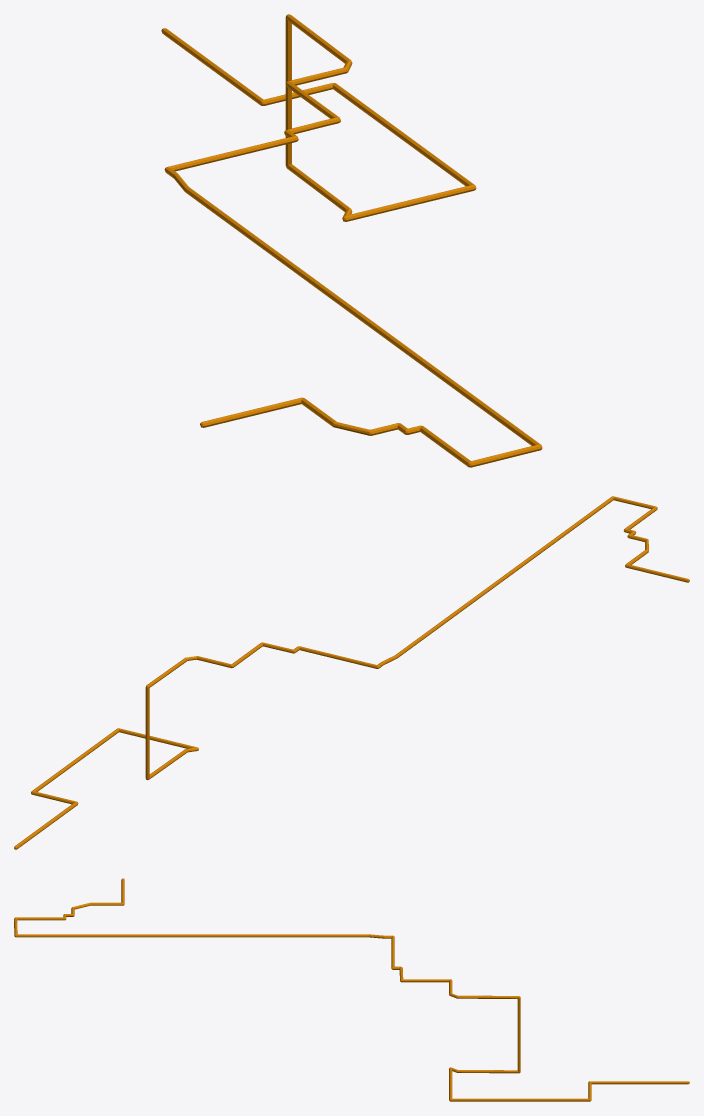
3 renders of one model, top to bottom at view 1: azimuth 30°, elevation 25°; view 2: azimuth 150°, elevation 25°; view 3: azimuth 270°, elevation 25°, orthographic. The views are drawn at different scales.
Bounding box in the file's own units: 2125 × 520 × 4124.
